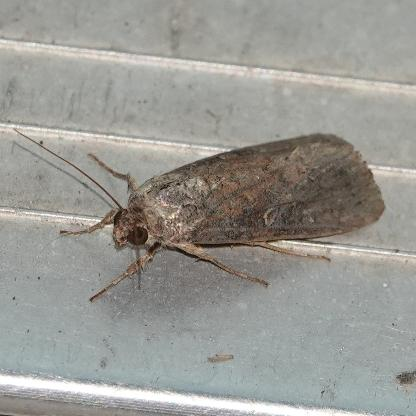Fall Armyworm Moth: (11, 123, 392, 305)
